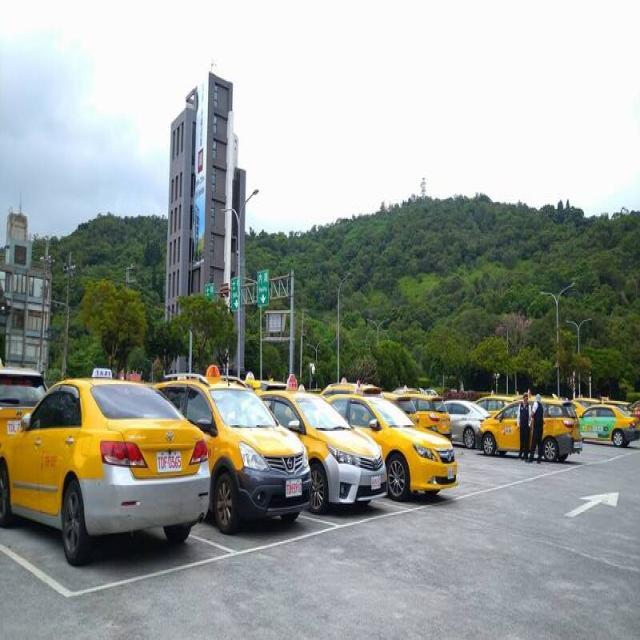Door: (161, 378, 311, 532), (262, 389, 388, 512), (329, 391, 458, 499)
Taxi: (0, 378, 210, 563)
